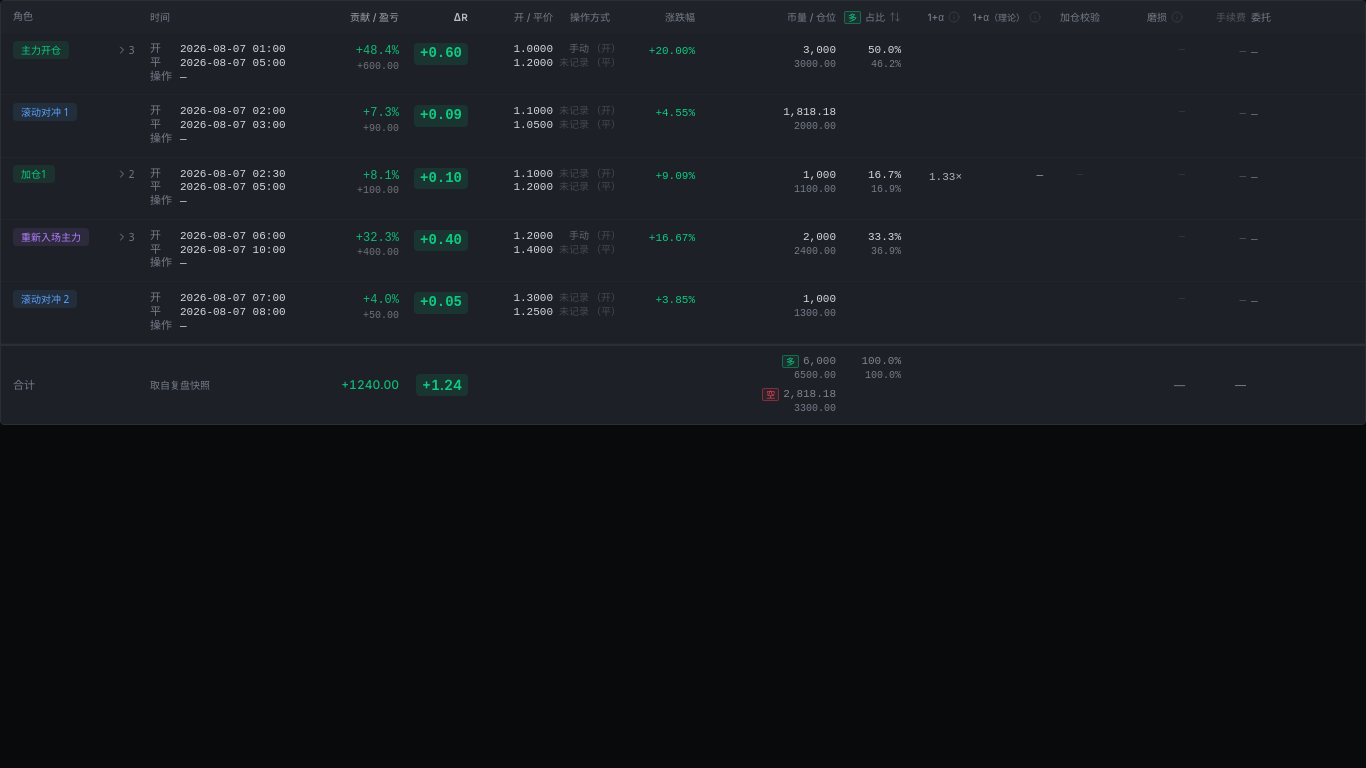
Scenario: 【用户要求】主力与其他多单的阶段子行默认折叠，收尾不呈现 › 不持久化：重新挂载后回到折叠
This screenshot has width=1366, height=768.
Later steps or results of the test are not shown.
Click the button "3" next to "主力开仓" at {"x": 127, "y": 50}, box left=113, top=41, right=141, bottom=59
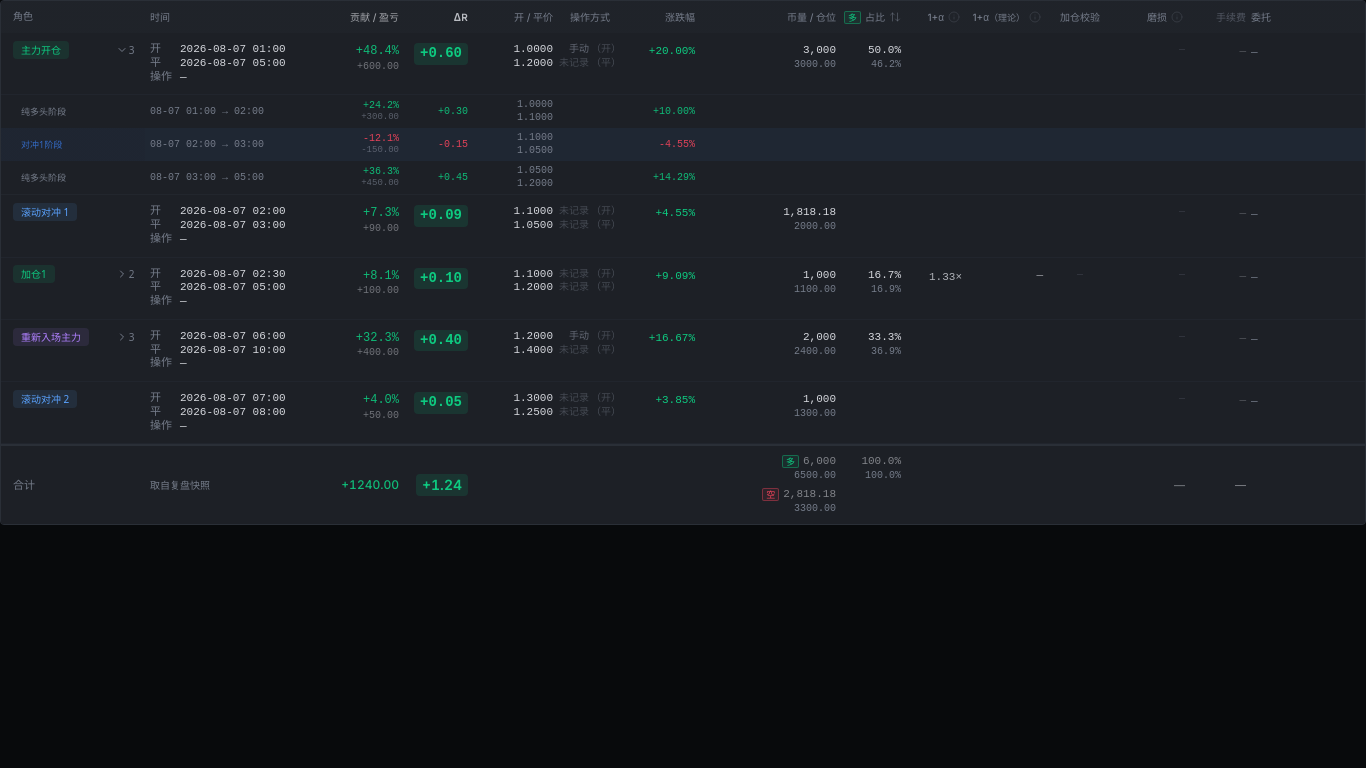
Expected: the element with test id "leg-phases-main" is shown, left=1, top=95, right=1365, bottom=195
